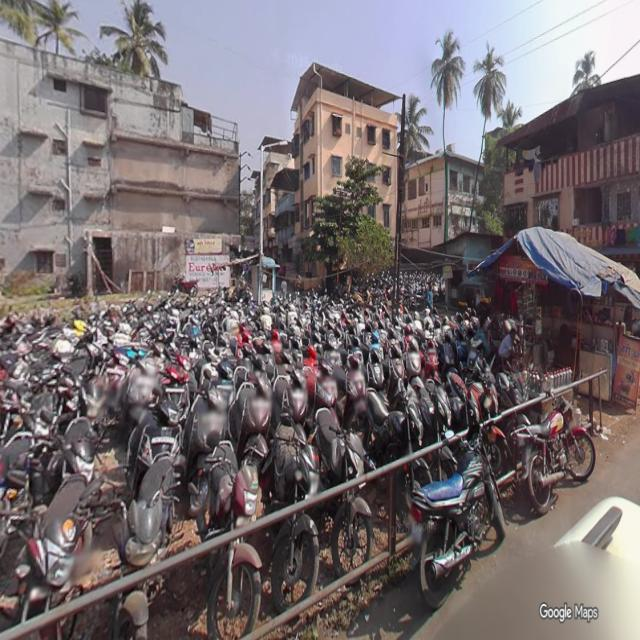Legalparking: (1, 266, 572, 590)
illegalparking: (398, 374, 600, 610)
